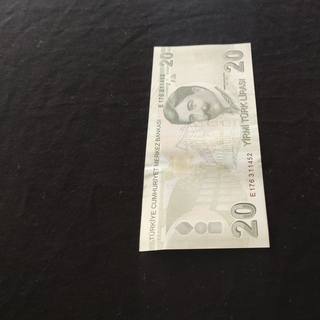20TLBack: (138, 42, 270, 252)
